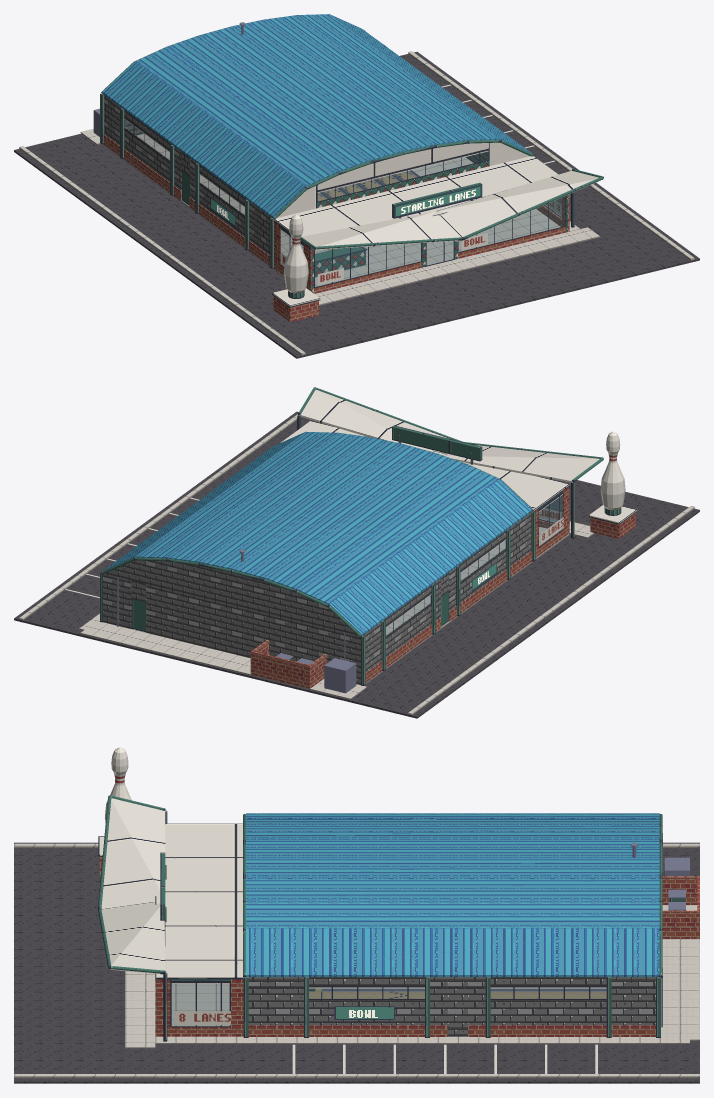
Rendered from starling-lanes.glb.
The picture shows the model from 3 angles, top to bottom: view 1: azimuth 30°, elevation 25°; view 2: azimuth 150°, elevation 25°; view 3: azimuth 270°, elevation 25°; orthographic projection. The views are drawn at different scales.
Visible parts, largest first — view 1: structure__roof_vault_blue, lot__ground_asphalt, structure__wall_cream, structure__glass_lobby, lot__ground_paving, structure__ground_paving, structure__wall_block, structure__trim_teal, structure__wall_brick, structure__wall_mosaic, structure__glow_signage, giant_pin__detail_utility (+3 smaller); view 2: structure__roof_vault_blue, lot__ground_asphalt, structure__wall_block, structure__wall_cream, lot__ground_paving, structure__trim_teal, structure__wall_brick, structure__glass_lobby, service_yard__wall_brick, giant_pin__detail_utility, structure__ground_paving, structure__detail_utility (+1 smaller); view 3: structure__roof_vault_blue, lot__ground_asphalt, structure__wall_cream, structure__wall_block, lot__ground_paving, structure__wall_brick, structure__glass_lobby, structure__trim_teal, service_yard__wall_brick, structure__floor_lanes, structure__ground_paving, structure__detail_utility (+3 smaller).
Part boxes in pixels (<box>): structure__roof_vault_blue: <box>102,14,531,217</box>; lot__ground_asphalt: <box>14,51,699,358</box>; structure__wall_cream: <box>274,142,602,249</box>; structure__glass_lobby: <box>124,117,566,288</box>; lot__ground_paving: <box>19,51,694,355</box>; structure__ground_paving: <box>103,134,560,286</box>; structure__wall_block: <box>104,95,488,255</box>; structure__trim_teal: <box>100,19,603,268</box>; structure__wall_brick: <box>103,134,569,293</box>; structure__wall_mosaic: <box>309,160,569,293</box>; structure__glow_signage: <box>210,185,481,226</box>; giant_pin__detail_utility: <box>284,214,308,293</box>; structure__roof_vault_blue: <box>103,431,532,635</box>; lot__ground_asphalt: <box>14,411,699,718</box>; structure__wall_block: <box>103,512,531,684</box>; structure__wall_cream: <box>280,390,599,510</box>; lot__ground_paving: <box>19,414,694,715</box>; structure__trim_teal: <box>100,387,603,685</box>; structure__wall_brick: <box>365,486,569,682</box>; structure__glass_lobby: <box>386,492,563,636</box>; service_yard__wall_brick: <box>250,639,326,688</box>; giant_pin__detail_utility: <box>600,431,625,510</box>; structure__ground_paving: <box>132,527,569,683</box>; structure__detail_utility: <box>117,549,356,693</box>; structure__roof_vault_blue: <box>246,813,659,976</box>; lot__ground_asphalt: <box>14,842,699,1083</box>; structure__wall_cream: <box>101,798,243,979</box>; structure__wall_block: <box>248,977,655,1036</box>; lot__ground_paving: <box>14,843,699,1078</box>; structure__wall_brick: <box>155,979,655,1036</box>; structure__glass_lobby: <box>170,981,606,1027</box>; structure__trim_teal: <box>98,795,662,1041</box>; service_yard__wall_brick: <box>662,876,699,938</box>; structure__floor_lanes: <box>309,988,606,998</box>; structure__ground_paving: <box>171,984,229,1026</box>; structure__detail_utility: <box>321,833,689,1027</box>.
Size of what is drawn, in the model's own units: 34.76 by 8.38 by 42.21.
12 materials, 12 textured.
